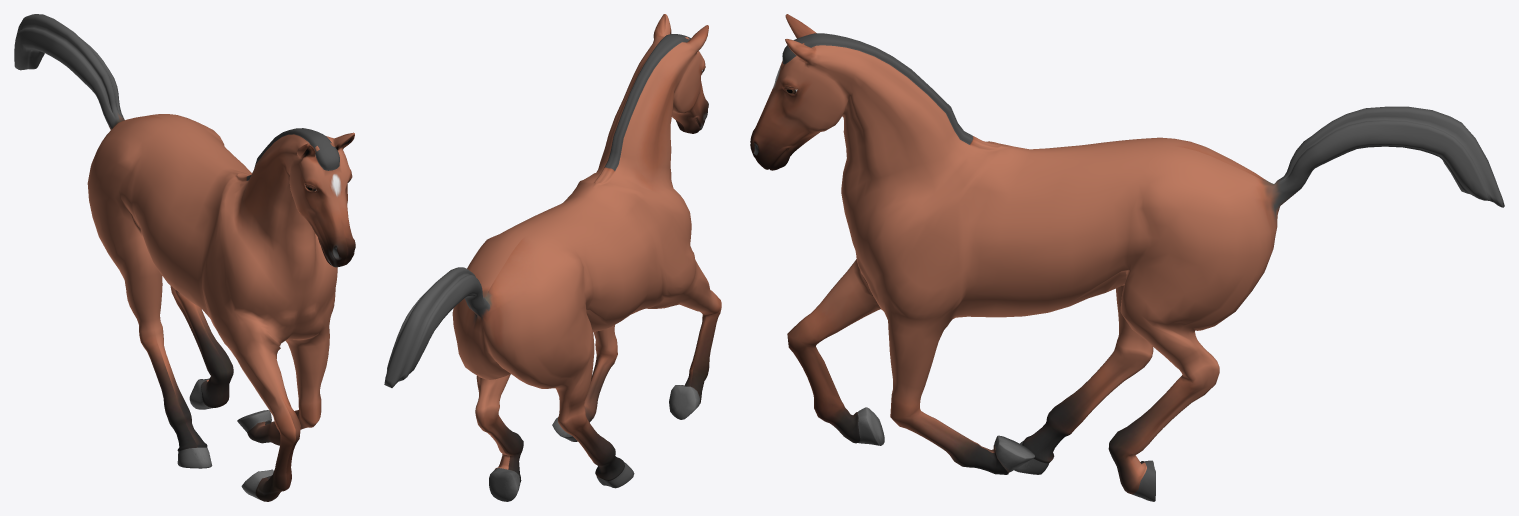
File: horse_obj_6.obj
3 views of the same model, side by side, from view 1: azimuth 30°, elevation 25°; view 2: azimuth 150°, elevation 25°; view 3: azimuth 270°, elevation 25° (orthographic). The views are drawn at different scales.
Visible parts, largest first — view 1: Figure_1; view 2: Figure_1; view 3: Figure_1.
Part boxes in pixels (x1,y1,x2,y2): Figure_1: (14, 14, 355, 501); Figure_1: (384, 14, 721, 501); Figure_1: (750, 14, 1504, 501).
Bounding box in the file's own units: 0.2421 × 0.7814 × 1.16.
7 materials, 7 textured.
